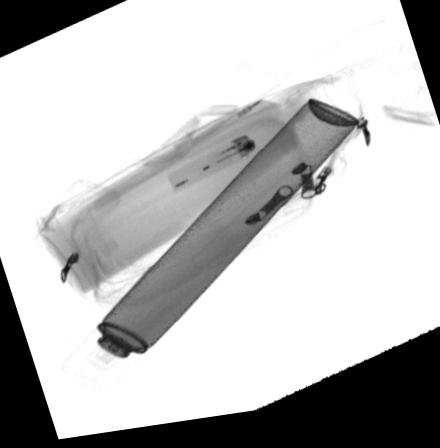Lighter: (165, 137, 256, 199)
Sprayer: (59, 108, 360, 396)
